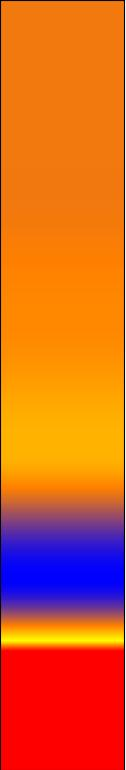Thermal Runaway: (6, 11, 118, 484), (2, 624, 120, 766)
critical: (8, 496, 119, 525), (11, 604, 118, 615)
safe: (6, 535, 120, 599)
